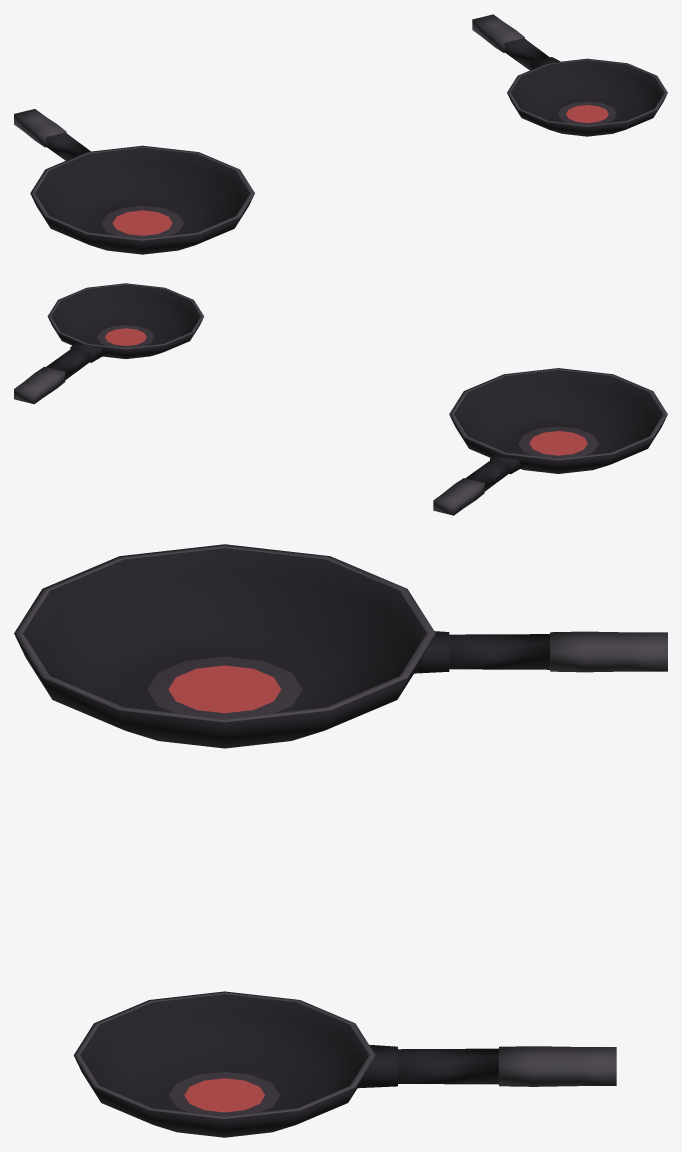
File: FryingPans.fbx
3 renders of one model, top to bottom at view 1: azimuth 30°, elevation 25°; view 2: azimuth 150°, elevation 25°; view 3: azimuth 270°, elevation 25°, orthographic. The views are drawn at different scales.
Visible parts, largest first — view 1: FryingPan, FryingPanSmall; view 2: FryingPan, FryingPanSmall; view 3: FryingPan, FryingPanSmall.
Boxes of the visible parts, x1,y1,x2,y2 form: FryingPan: (14, 109, 254, 254); FryingPanSmall: (472, 14, 667, 136); FryingPan: (433, 368, 667, 515); FryingPanSmall: (14, 283, 203, 404); FryingPan: (14, 544, 667, 748); FryingPanSmall: (73, 991, 616, 1137).
Size of the model in its own units: 1.38 by 0.079 by 0.6791.
